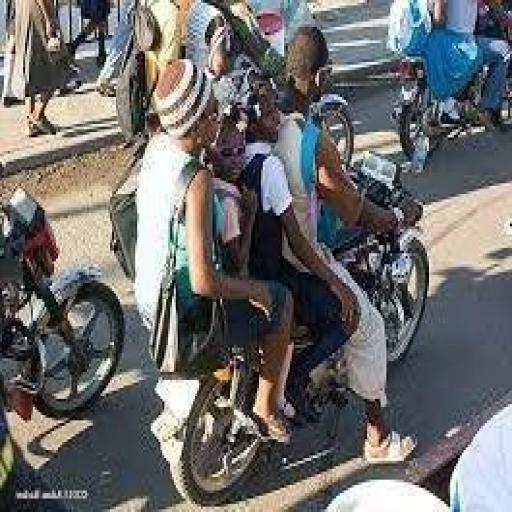no helmet: (281, 16, 374, 148)
triple riding: (116, 24, 442, 499)
